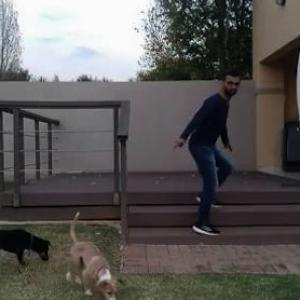land: (170, 67, 245, 233)
